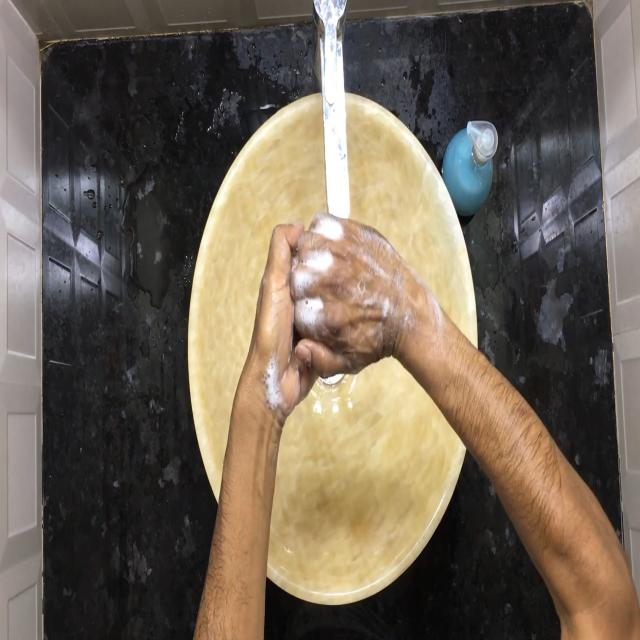step_4: (256, 202, 413, 393)
